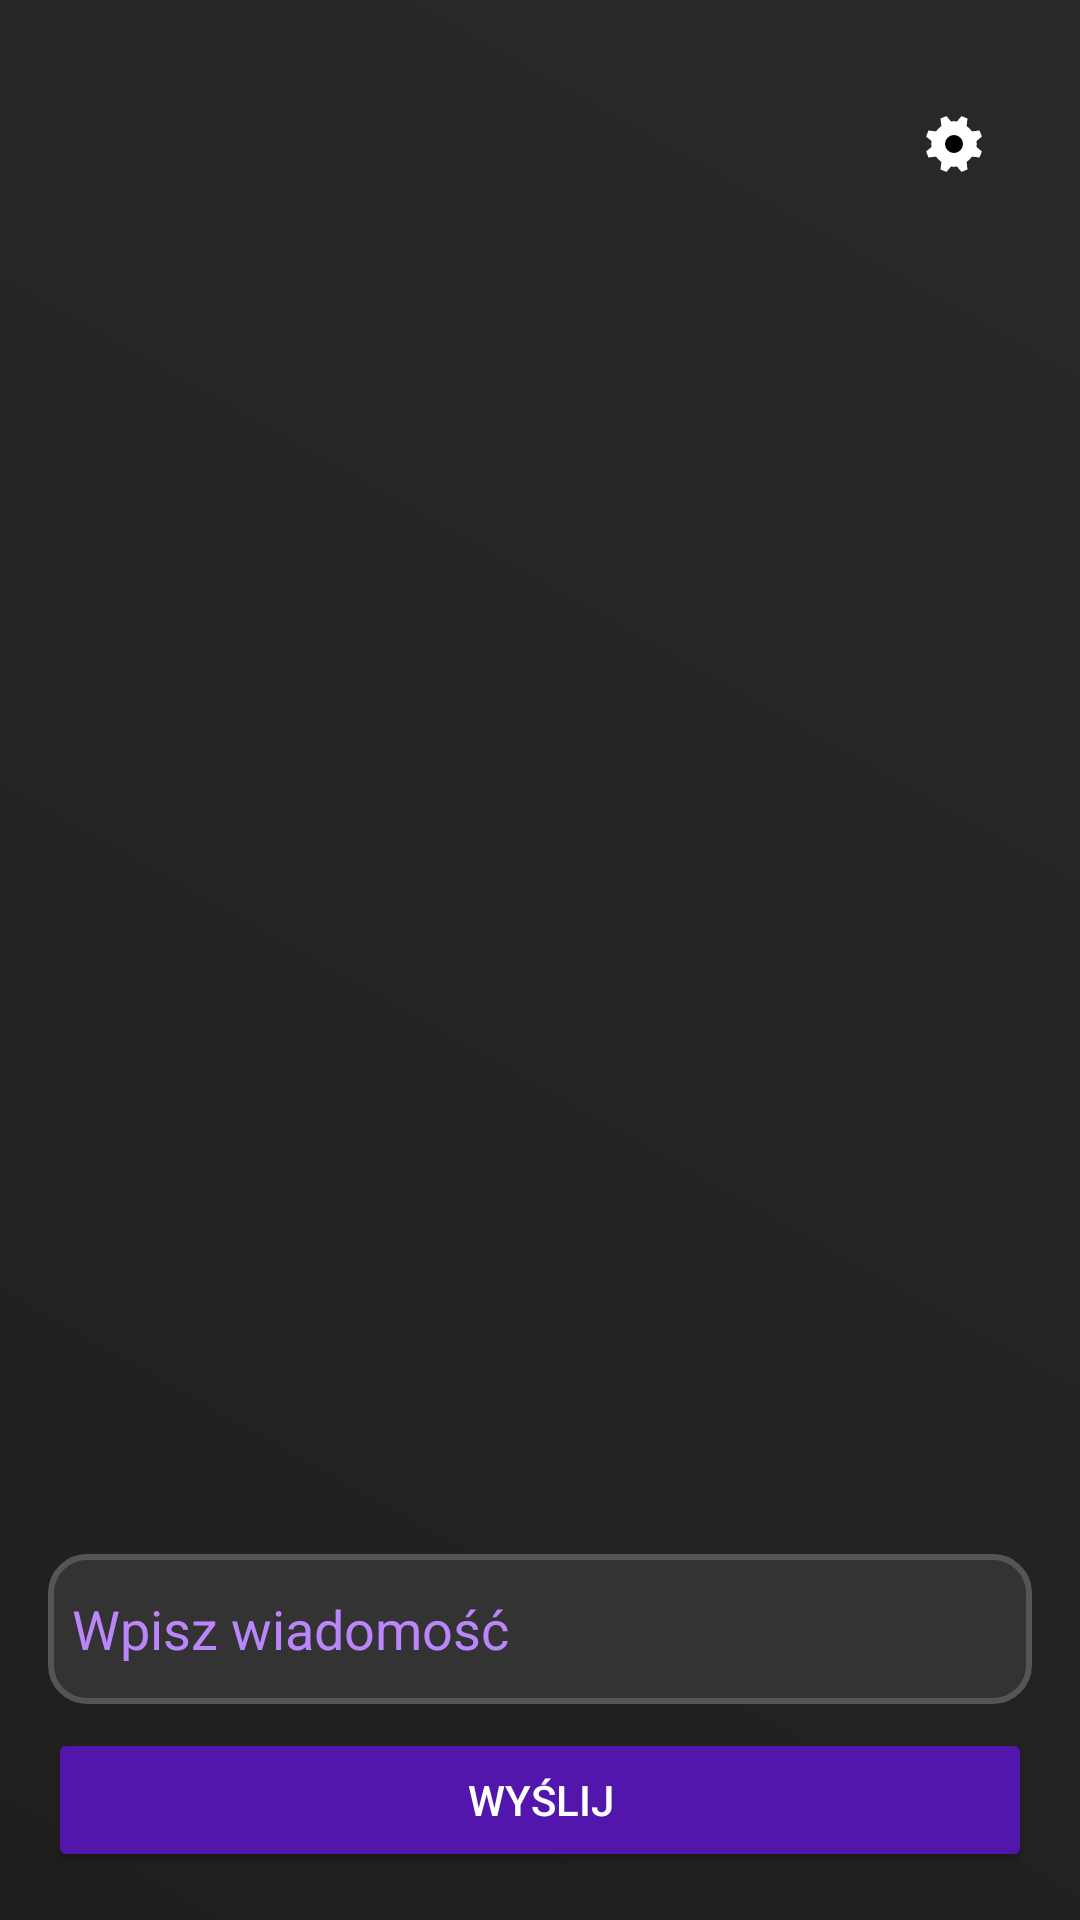

Icon click points for this 1080px×1920px phone screenshot, format (x=x, y=y):
Ustawienia: (x=954, y=144)
